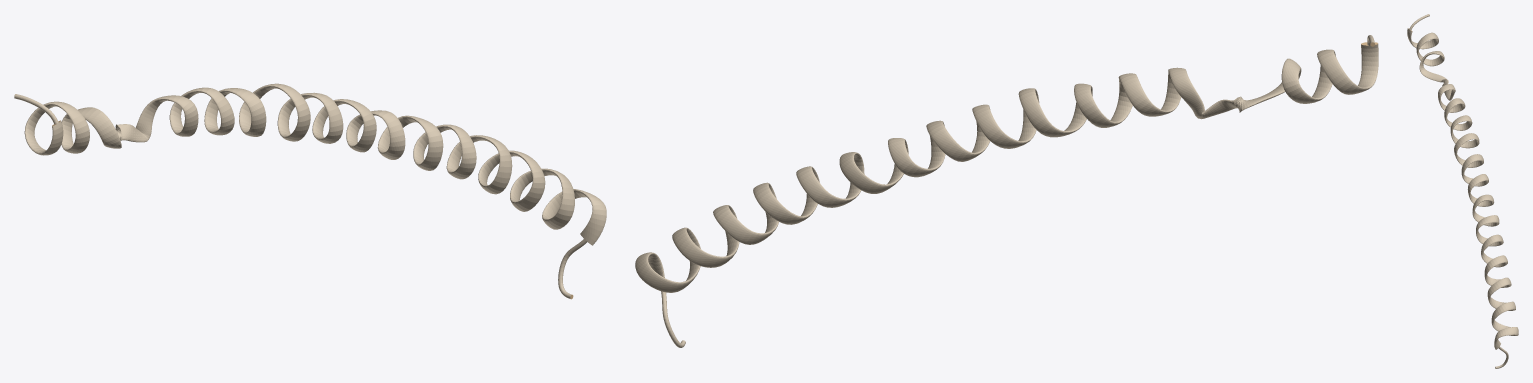
File: rCoilrCoilHelix.dae
3 renders of one model, left to right at view 1: azimuth 30°, elevation 25°; view 2: azimuth 150°, elevation 25°; view 3: azimuth 270°, elevation 25°, orthographic. The views are drawn at different scales.
Parts seen in each view (by area): view 1: Shape_IndexedTriangleStripSet_060; view 2: Shape_IndexedTriangleStripSet_060; view 3: Shape_IndexedTriangleStripSet_060.
Part boxes in pixels (x1,y1,x2,y2): Shape_IndexedTriangleStripSet_060: (14,83,606,299); Shape_IndexedTriangleStripSet_060: (635,35,1378,347); Shape_IndexedTriangleStripSet_060: (1407,14,1518,368).
Size of the model in its own units: 79.32 by 23.16 by 46.44.
